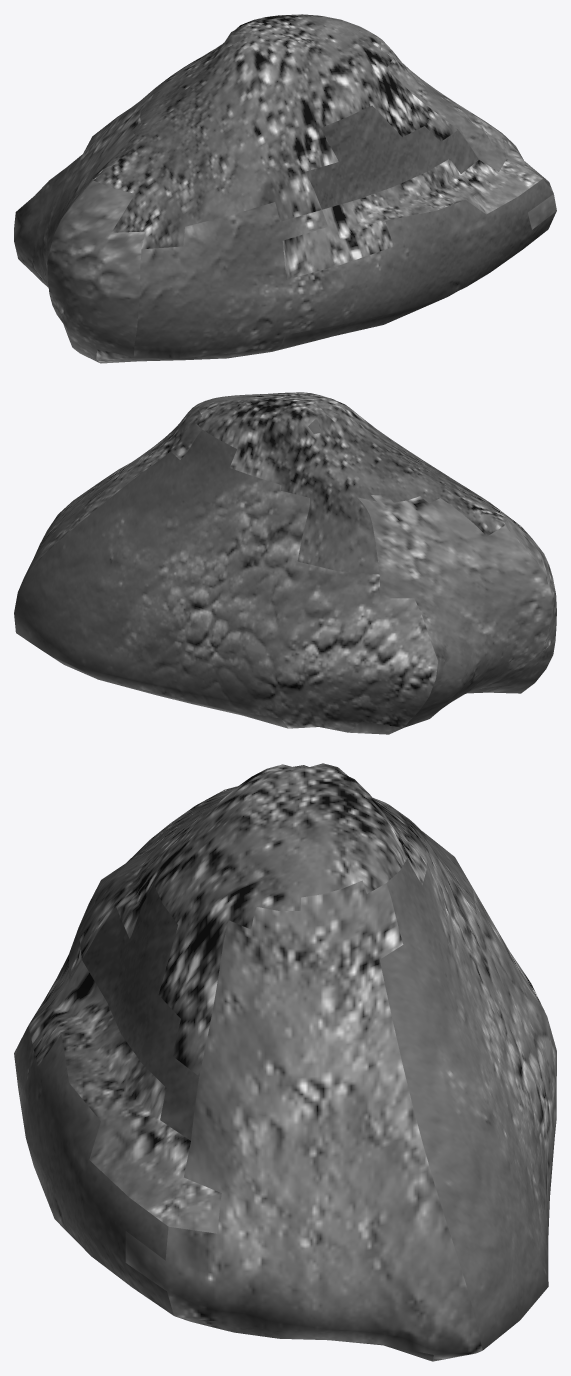
The model's file is Rock12.obj.
3 renders of one model, top to bottom at view 1: azimuth 30°, elevation 25°; view 2: azimuth 150°, elevation 25°; view 3: azimuth 270°, elevation 25°, orthographic. The views are drawn at different scales.
Visible parts, largest first — view 1: Rocks3; view 2: Rocks3; view 3: Rocks3.
Part boxes in pixels (<box>): Rocks3: <box>14,14,556,363</box>; Rocks3: <box>14,392,556,734</box>; Rocks3: <box>14,763,556,1361</box>.
Size of the model in its own units: 0.7097 by 0.3707 by 0.4308.
Materials: 1 (1 with a texture image).
